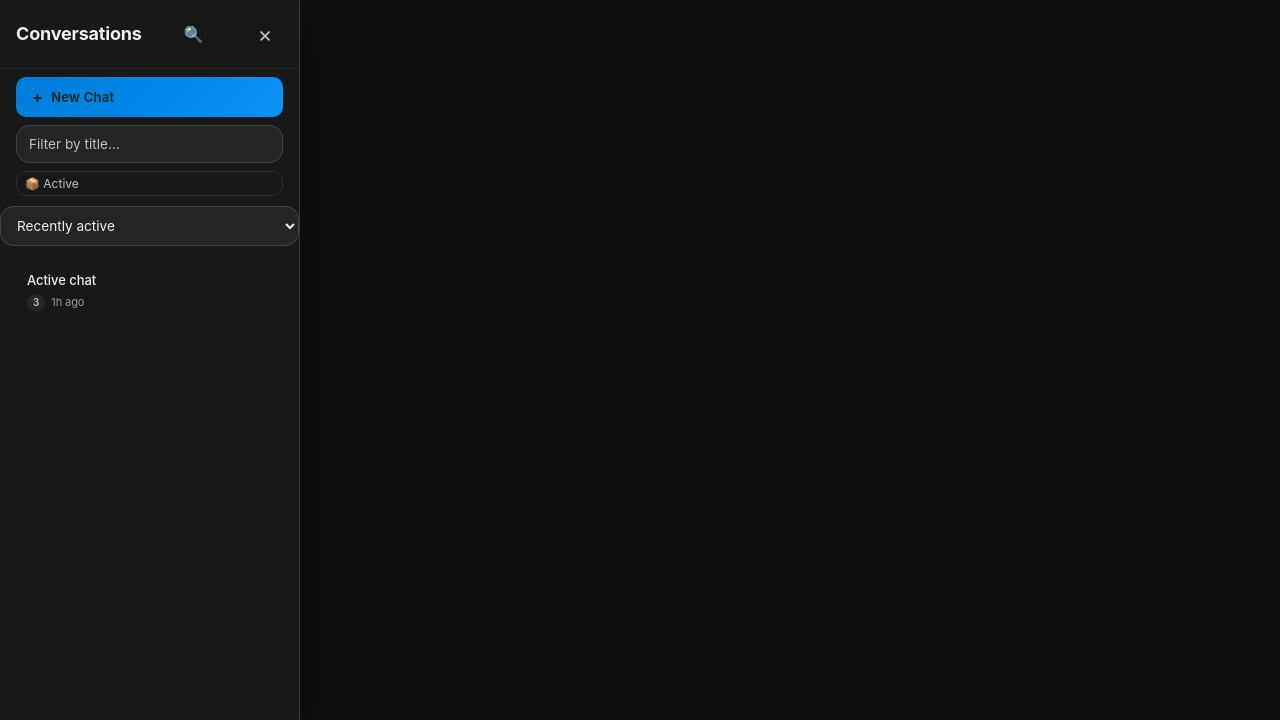
Test case: ConversationSidebar — archiving › clicking archive toggle shows archived conversations
Click the button with class "archive-toggle-btn" at [61, 184], box 16,171 -> 283,196
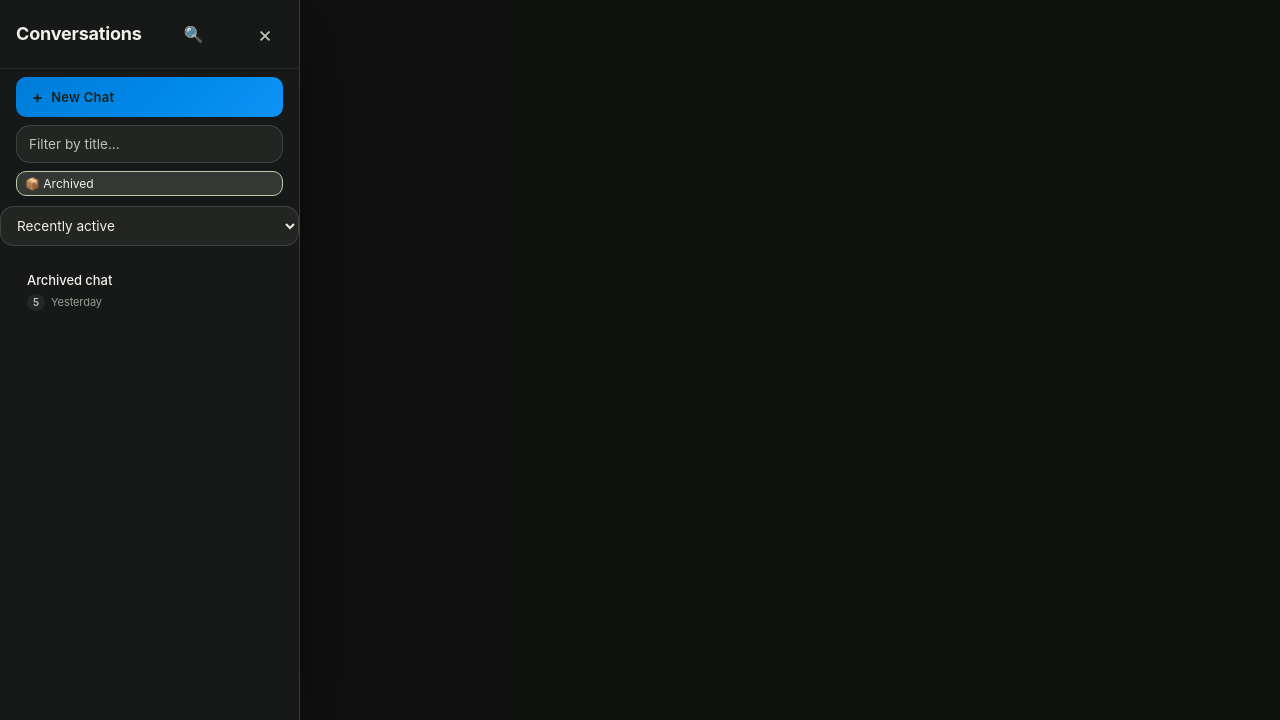
Check: the text "Archived chat" is shown, box 27,270 -> 119,291
Check: the text "Active chat" is gone
